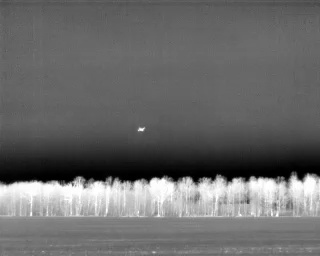DRONE: (134, 122, 150, 137)
